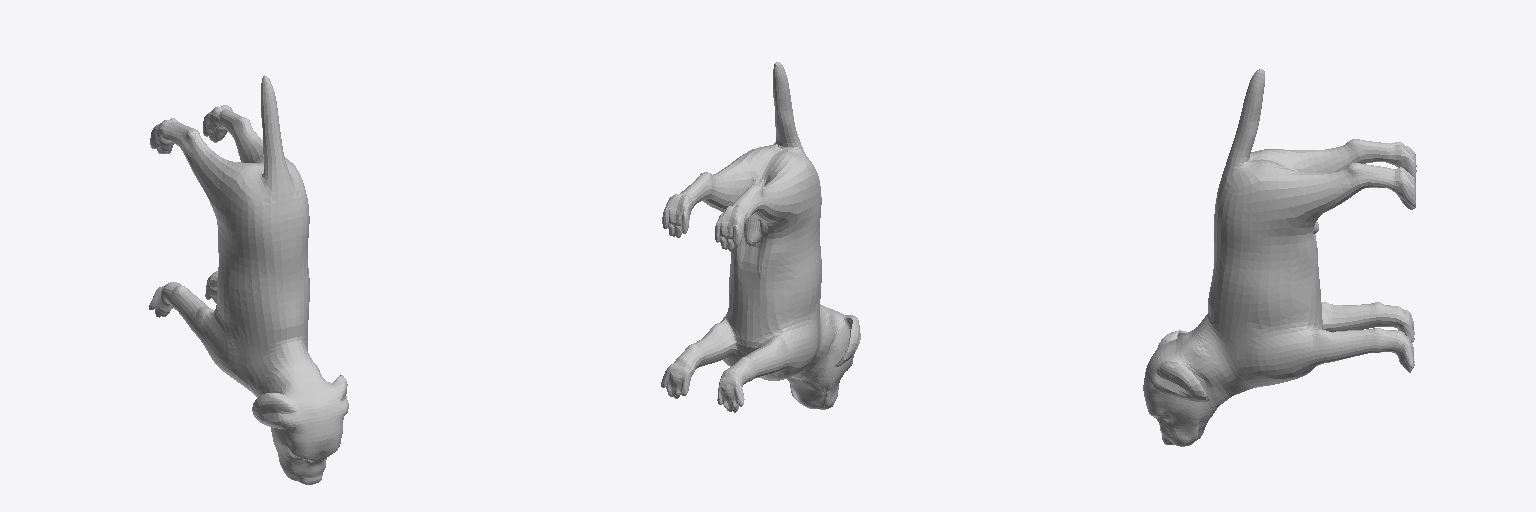
File: dog.obj
The picture shows the model from 3 angles: view 1: azimuth 30°, elevation 25°; view 2: azimuth 150°, elevation 25°; view 3: azimuth 270°, elevation 25°; orthographic projection.
Parts seen in each view (by area): view 1: Dog_body; view 2: Dog_body; view 3: Dog_body.
Boxes of the visible parts, <box> form: Dog_body: <box>149,75,348,484</box>; Dog_body: <box>661,62,860,412</box>; Dog_body: <box>1143,69,1416,446</box>.
Bounding box in the file's own units: 13.34 × 53.58 × 35.48.